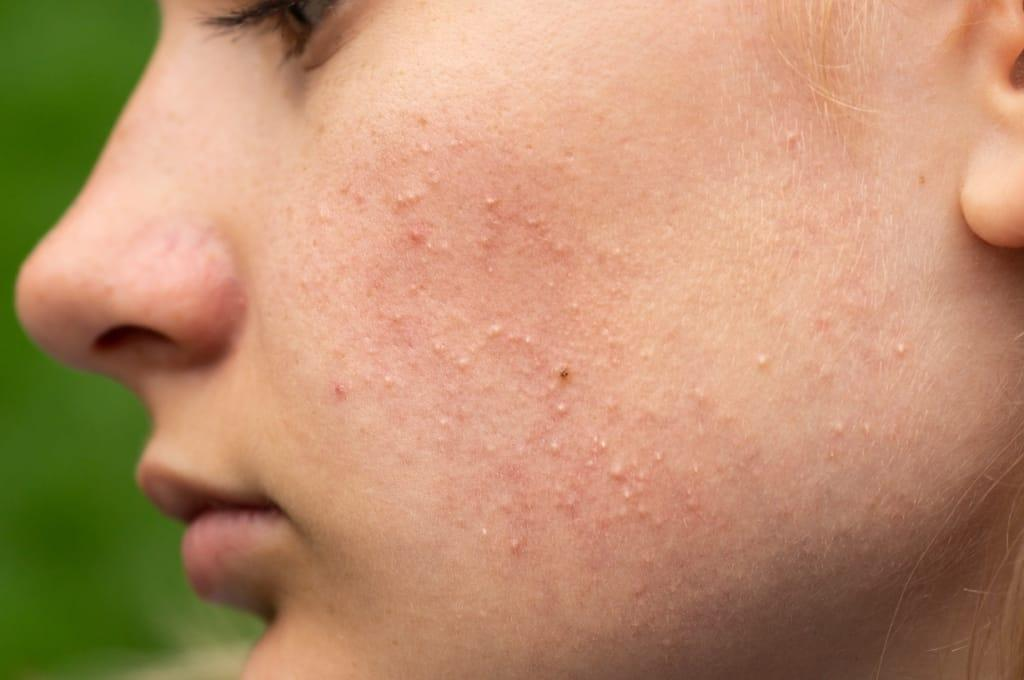Acne: (309, 117, 944, 558)
